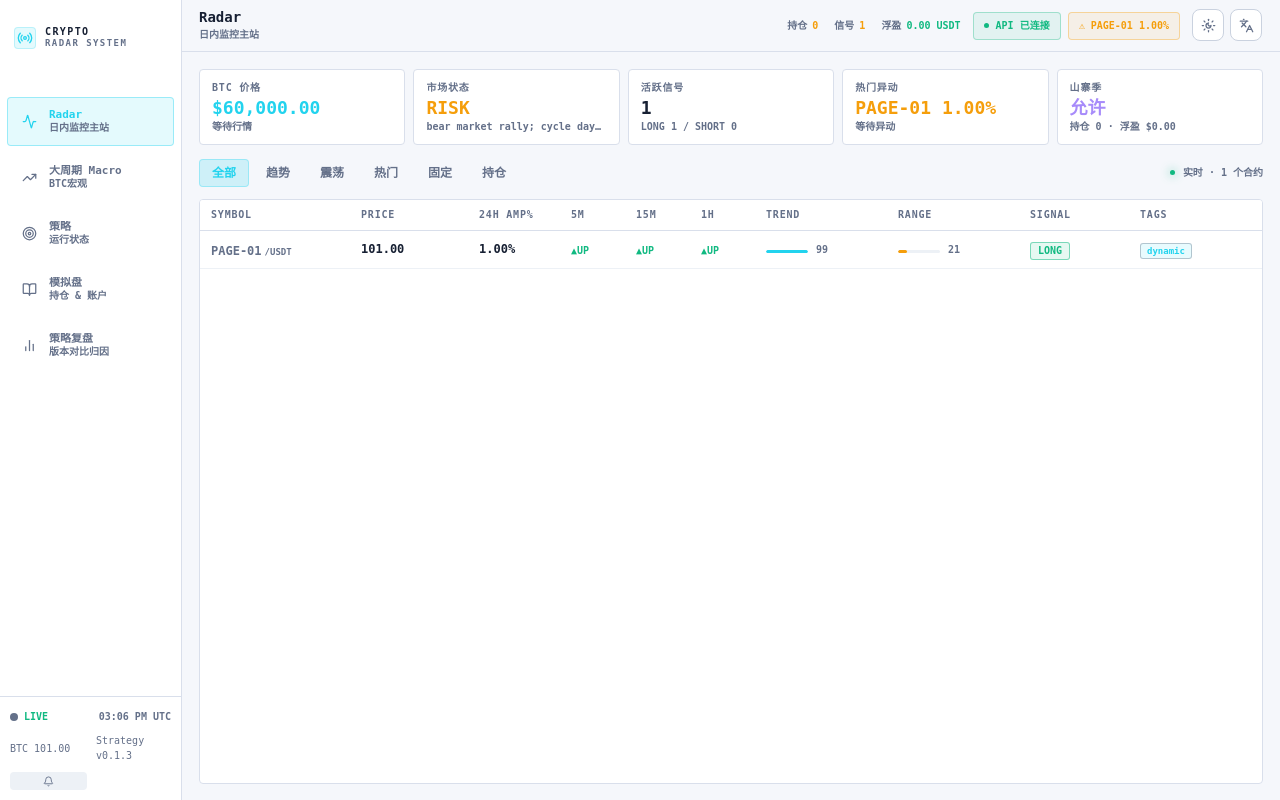
Test: App › paginates long FVG lists in the symbol detail panel
The image size is (1280, 800).
Click the row named "PAGE-01-USDT-SWAP": x=731, y=250 [200,231,1262,269]
(page scrolled)
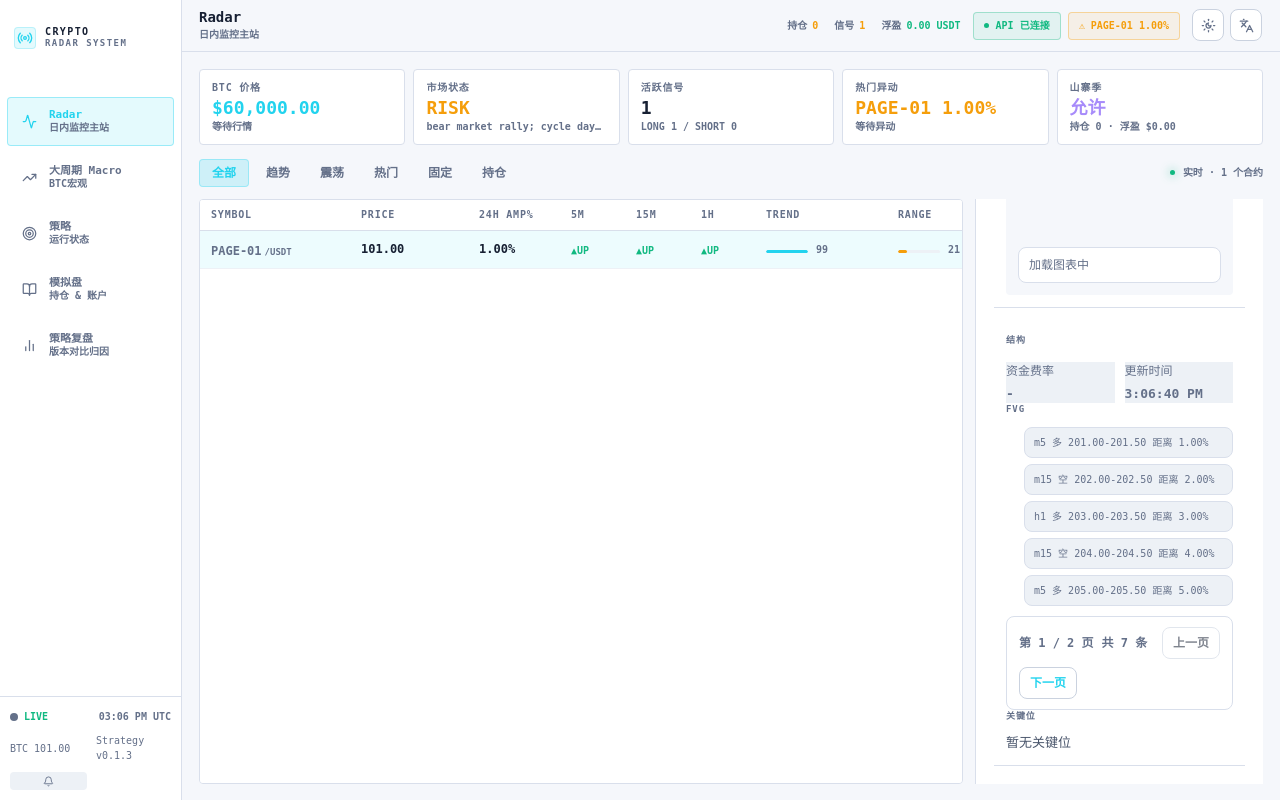
Result: the navigation bar with test id "fvg-pagination" shows "第 1 / 2 页" at [1019,635,1094,649]
Result: the list with test id "fvg-zone-list" shows "201.00-201.50" at [1006,426,1233,605]
Result: the list with test id "fvg-zone-list" shows "205.00-205.50" at [1006,426,1233,605]
Click the button "下一页": x=1048, y=682 [1019,666,1077,698]
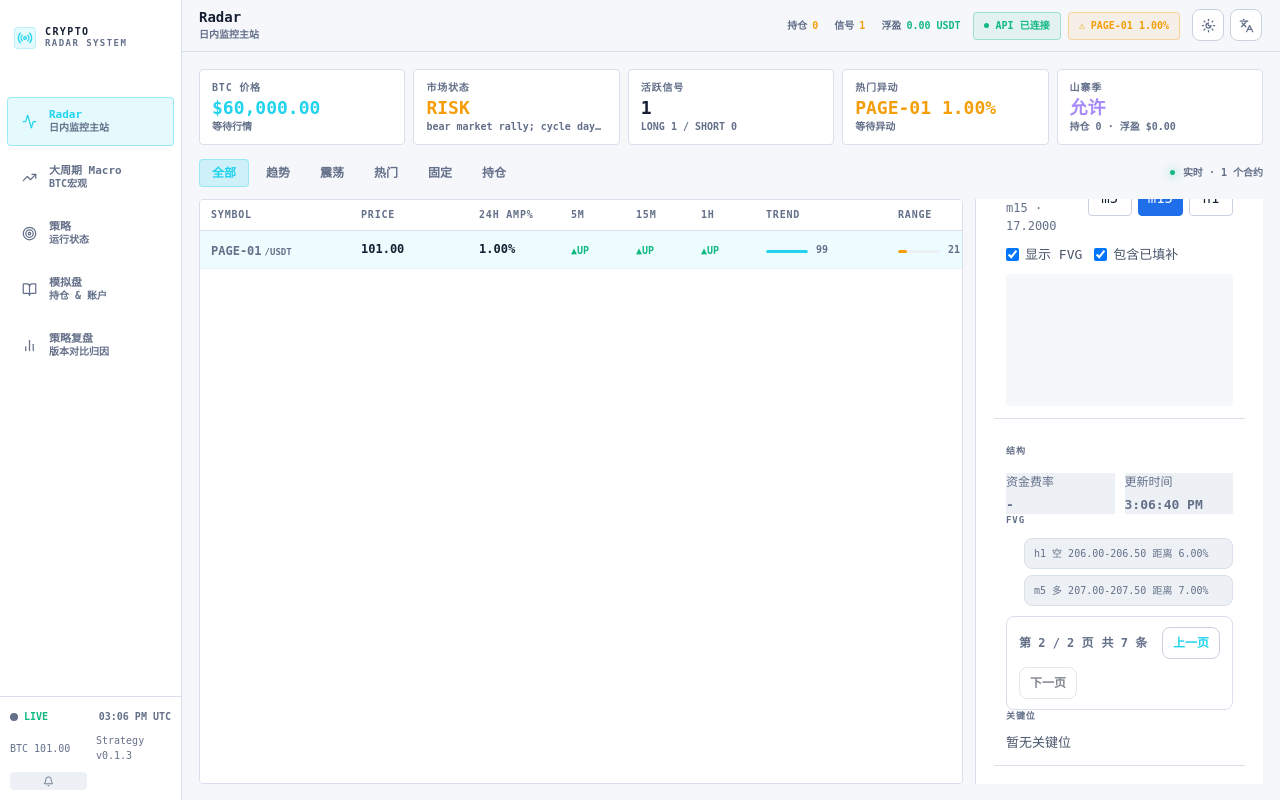
Result: the list with test id "fvg-zone-list" shows "206.00-206.50" at [1006,537,1233,605]
Result: the list with test id "fvg-zone-list" shows "207.00-207.50" at [1006,537,1233,605]
Result: the list with test id "fvg-zone-list" no longer shows "201.00-201.50" at [1006,537,1233,605]
